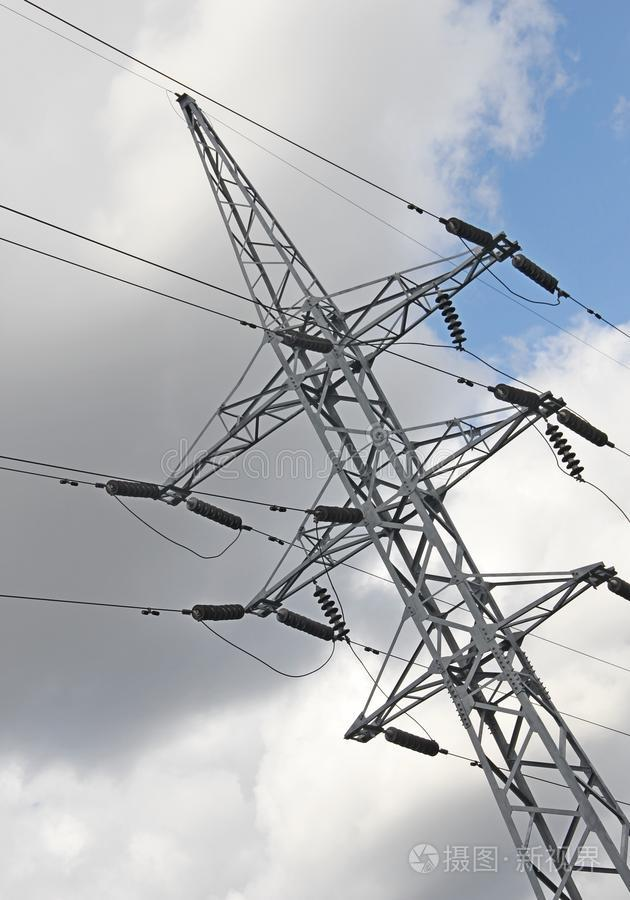insulator: (311, 586, 349, 640), (546, 425, 585, 473), (515, 253, 560, 292), (561, 408, 607, 446), (384, 728, 442, 758), (276, 611, 333, 641), (189, 496, 240, 528), (436, 292, 464, 345), (282, 325, 333, 351), (443, 217, 491, 244), (189, 601, 244, 622), (492, 380, 538, 405), (313, 504, 365, 524), (105, 479, 158, 498)
